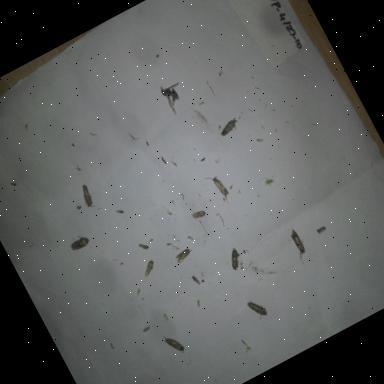pbw: (212, 109, 246, 146), (216, 240, 250, 277), (206, 166, 238, 204), (69, 176, 101, 214), (283, 224, 314, 262), (66, 231, 98, 260), (185, 196, 216, 225), (160, 330, 188, 360), (244, 293, 270, 322), (170, 242, 198, 268), (136, 255, 158, 279)
